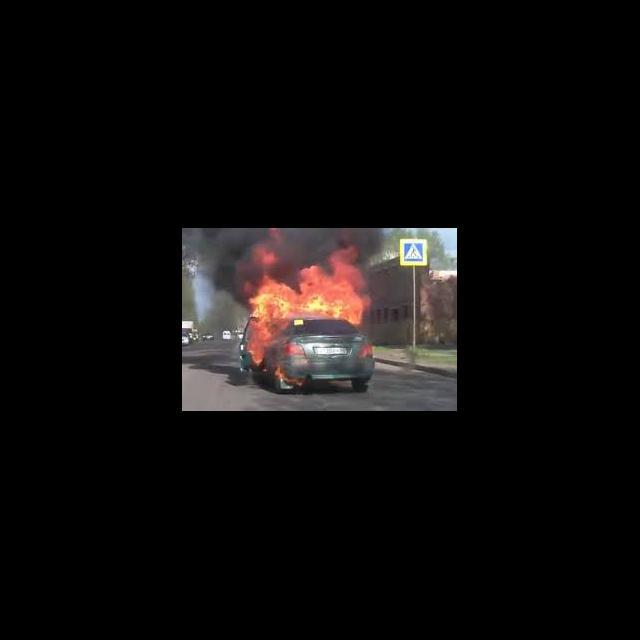Fire: (238, 248, 374, 323), (246, 324, 272, 364), (274, 367, 304, 388)
Smoke: (184, 228, 238, 304), (238, 228, 381, 246)
